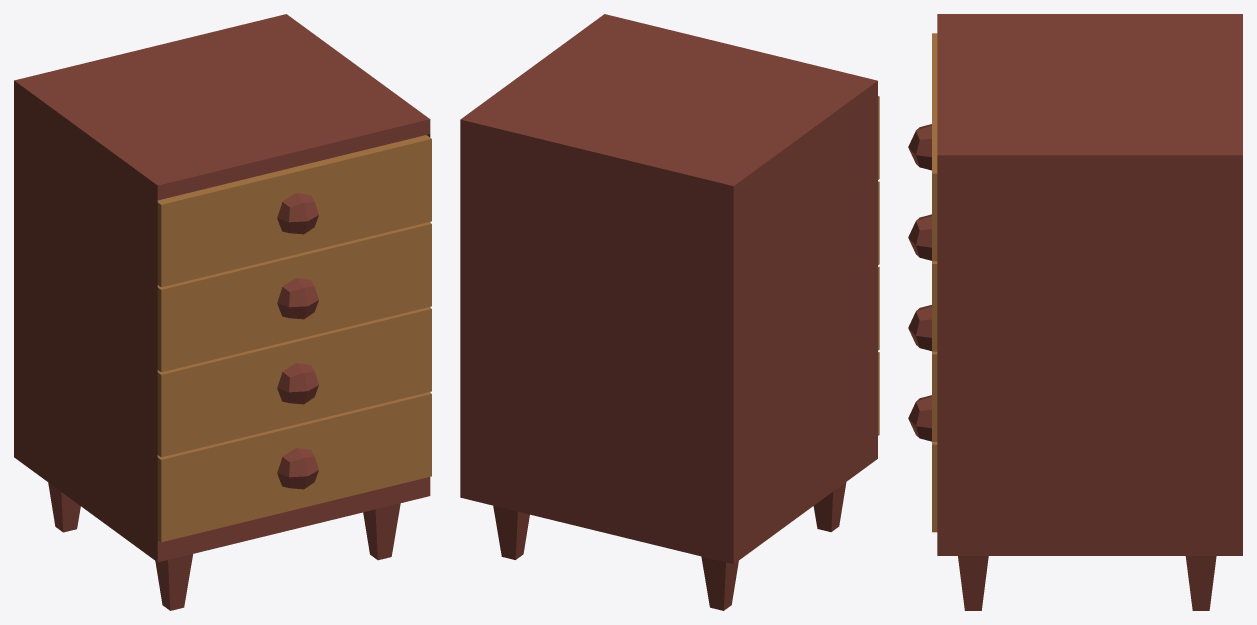
File: Nightstand.fbx
3 views of the same model, side by side, from view 1: azimuth 30°, elevation 25°; view 2: azimuth 150°, elevation 25°; view 3: azimuth 270°, elevation 25° (orthographic). The views are drawn at different scales.
Parts seen in each view (by area): view 1: Nightstand; view 2: Nightstand; view 3: Nightstand.
Part boxes in pixels (bbox=[...]): Nightstand: bbox=[14, 14, 431, 610]; Nightstand: bbox=[460, 14, 879, 610]; Nightstand: bbox=[908, 14, 1242, 610].
Size of the model in its own units: 0.5451 by 0.8433 by 0.5456.
